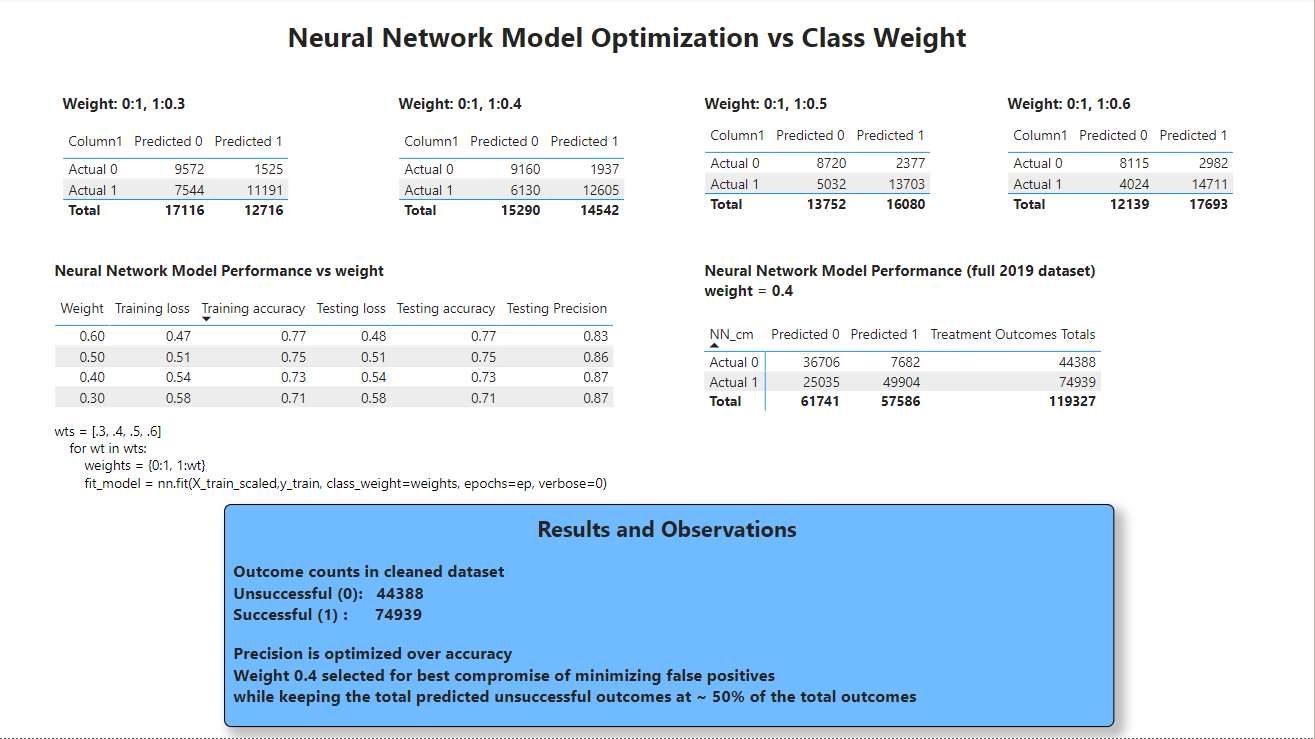

The dashboard page shown, as its layout file describes it:
{"tool":"powerbi","page":{"name":"Page 2","canvas":[1280,720],"ordinal":1},"visuals":[{"type":"tableEx","fields":{"Values":["nn_model_results_wt.Weight","nn_model_results_wt.Training loss","nn_model_results_wt.Training accuracey","nn_model_results_wt.Testing loss","nn_model_results_wt.Testing accuracy","nn_model_results_wt.Testing Precision"]},"box":[48.6,286,603,149.8],"z":0},{"type":"textbox","box":[48.6,249,430.9,37],"z":1000},{"type":"tableEx","fields":{"Values":["nn_cm_wt_0 3.Column1","Sum(nn_cm_wt_0 3.Predicted 0)","Sum(nn_cm_wt_0 3.Predicted 1)"]},"box":[56.4,123.5,257.8,109.9],"z":2000},{"type":"tableEx","fields":{"Values":["nn_cm_wt_0 4.Column1","Sum(nn_cm_wt_0 4.Predicted 0)","Sum(nn_cm_wt_0 4.Predicted 1)"]},"box":[383.2,123.5,257.8,149.8],"z":3000},{"type":"tableEx","fields":{"Values":["nn_cm_wt_0 5.Column1","Sum(nn_cm_wt_0 5.Predicted 0)","Sum(nn_cm_wt_0 5.Predicted 1)"]},"box":[680.9,117.7,257.8,149.8],"z":4000},{"type":"tableEx","fields":{"Values":["nn_cm_wt_0 6.Column1","Sum(nn_cm_wt_0 6.Predicted 0)","Sum(nn_cm_wt_0 6.Predicted 1)"]},"box":[975.6,117.7,257.8,149.8],"z":5000},{"type":"textbox","box":[275.3,13.6,751.9,50.6],"z":6000},{"type":"textbox","box":[56.4,86.6,236.4,37],"z":7000},{"type":"textbox","box":[383.2,86.6,174.1,37],"z":8000},{"type":"textbox","box":[680.9,86.6,159.5,37],"z":9000},{"type":"textbox","box":[975.6,86.6,147.8,37],"z":10000},{"type":"textbox","box":[48.6,406.6,603,96.3],"z":11000},{"type":"textbox","box":[218.8,492.2,865.7,216.9],"z":12000},{"type":"pivotTable","fields":{"Rows":["nn_cm_full_wt0 4.Column1"],"Values":["Sum(nn_cm_full_wt0 4.Predicted 0)","Sum(nn_cm_full_wt0 4.Predicted 1)","nn_cm_full_wt0 4.Predicted 0 plus Predicted 1"]},"box":[680.9,311.2,419.2,131.3],"z":13000},{"type":"textbox","box":[680.9,249,430.9,62.2],"z":14000}]}

Visuals, with their boxes in screenshot pixels (x1, y1, x2, y2), scaled from the page's 1280x720 canvas onto the 1315x739 screenshot:
tableEx - nn_model_results_wt.Weight x nn_model_results_wt.Training loss: box(50, 294, 669, 447)
textbox: box(50, 256, 493, 294)
tableEx - nn_cm_wt_0 3.Column1 x Sum(nn_cm_wt_0 3.Predicted 0): box(58, 127, 323, 240)
tableEx - nn_cm_wt_0 4.Column1 x Sum(nn_cm_wt_0 4.Predicted 0): box(394, 127, 659, 281)
tableEx - nn_cm_wt_0 5.Column1 x Sum(nn_cm_wt_0 5.Predicted 0): box(700, 121, 964, 275)
tableEx - nn_cm_wt_0 6.Column1 x Sum(nn_cm_wt_0 6.Predicted 0): box(1002, 121, 1267, 275)
textbox: box(283, 14, 1055, 66)
textbox: box(58, 89, 301, 127)
textbox: box(394, 89, 573, 127)
textbox: box(700, 89, 863, 127)
textbox: box(1002, 89, 1154, 127)
textbox: box(50, 417, 669, 516)
textbox: box(225, 505, 1114, 728)
pivotTable - nn_cm_full_wt0 4.Column1 x Sum(nn_cm_full_wt0 4.Predicted 0): box(700, 319, 1130, 454)
textbox: box(700, 256, 1142, 319)
